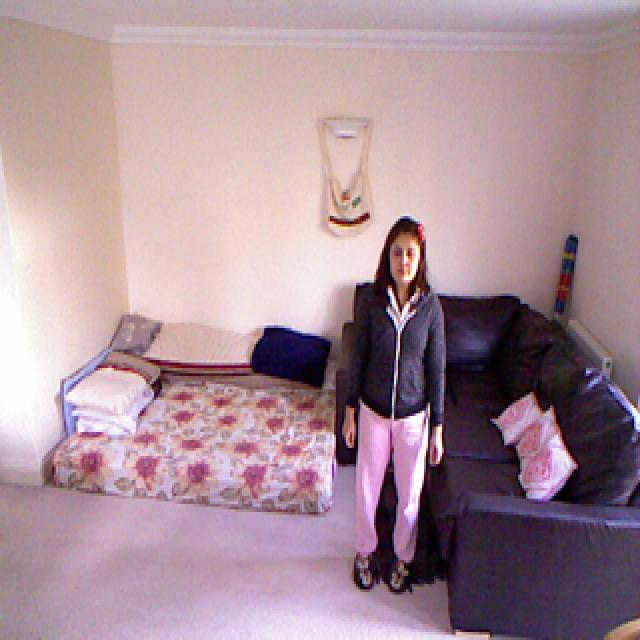standing: (332, 208, 447, 603)
